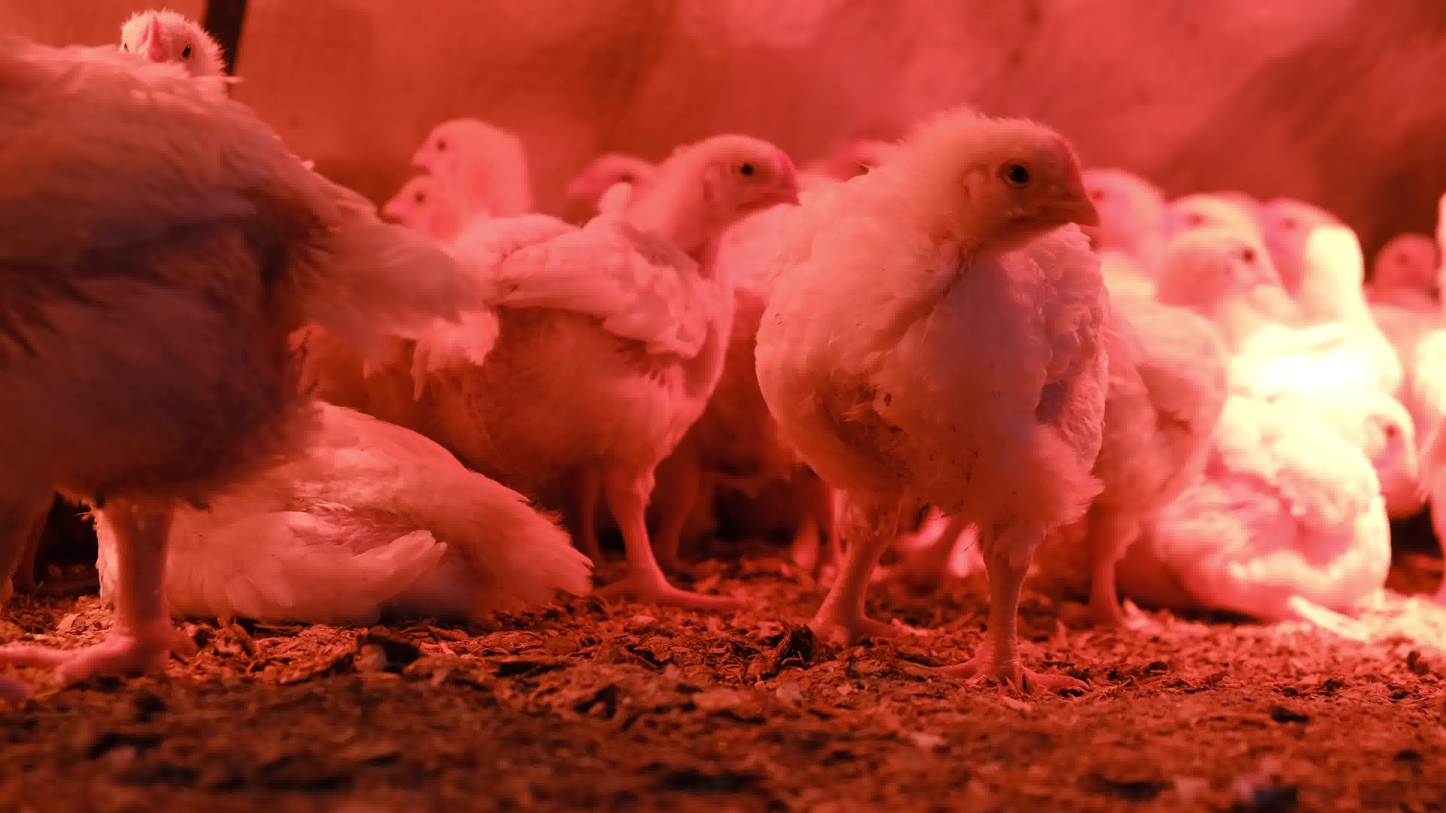AbNormal: (97, 398, 597, 625), (1100, 394, 1431, 613)
Normal: (4, 27, 495, 684), (750, 111, 1113, 703), (447, 134, 808, 622), (1081, 230, 1288, 632), (1281, 222, 1390, 392), (421, 115, 539, 249), (1067, 169, 1168, 300), (122, 8, 234, 100), (567, 151, 664, 210), (371, 166, 442, 244), (1372, 232, 1443, 309), (1168, 184, 1250, 246), (1254, 194, 1333, 241)
